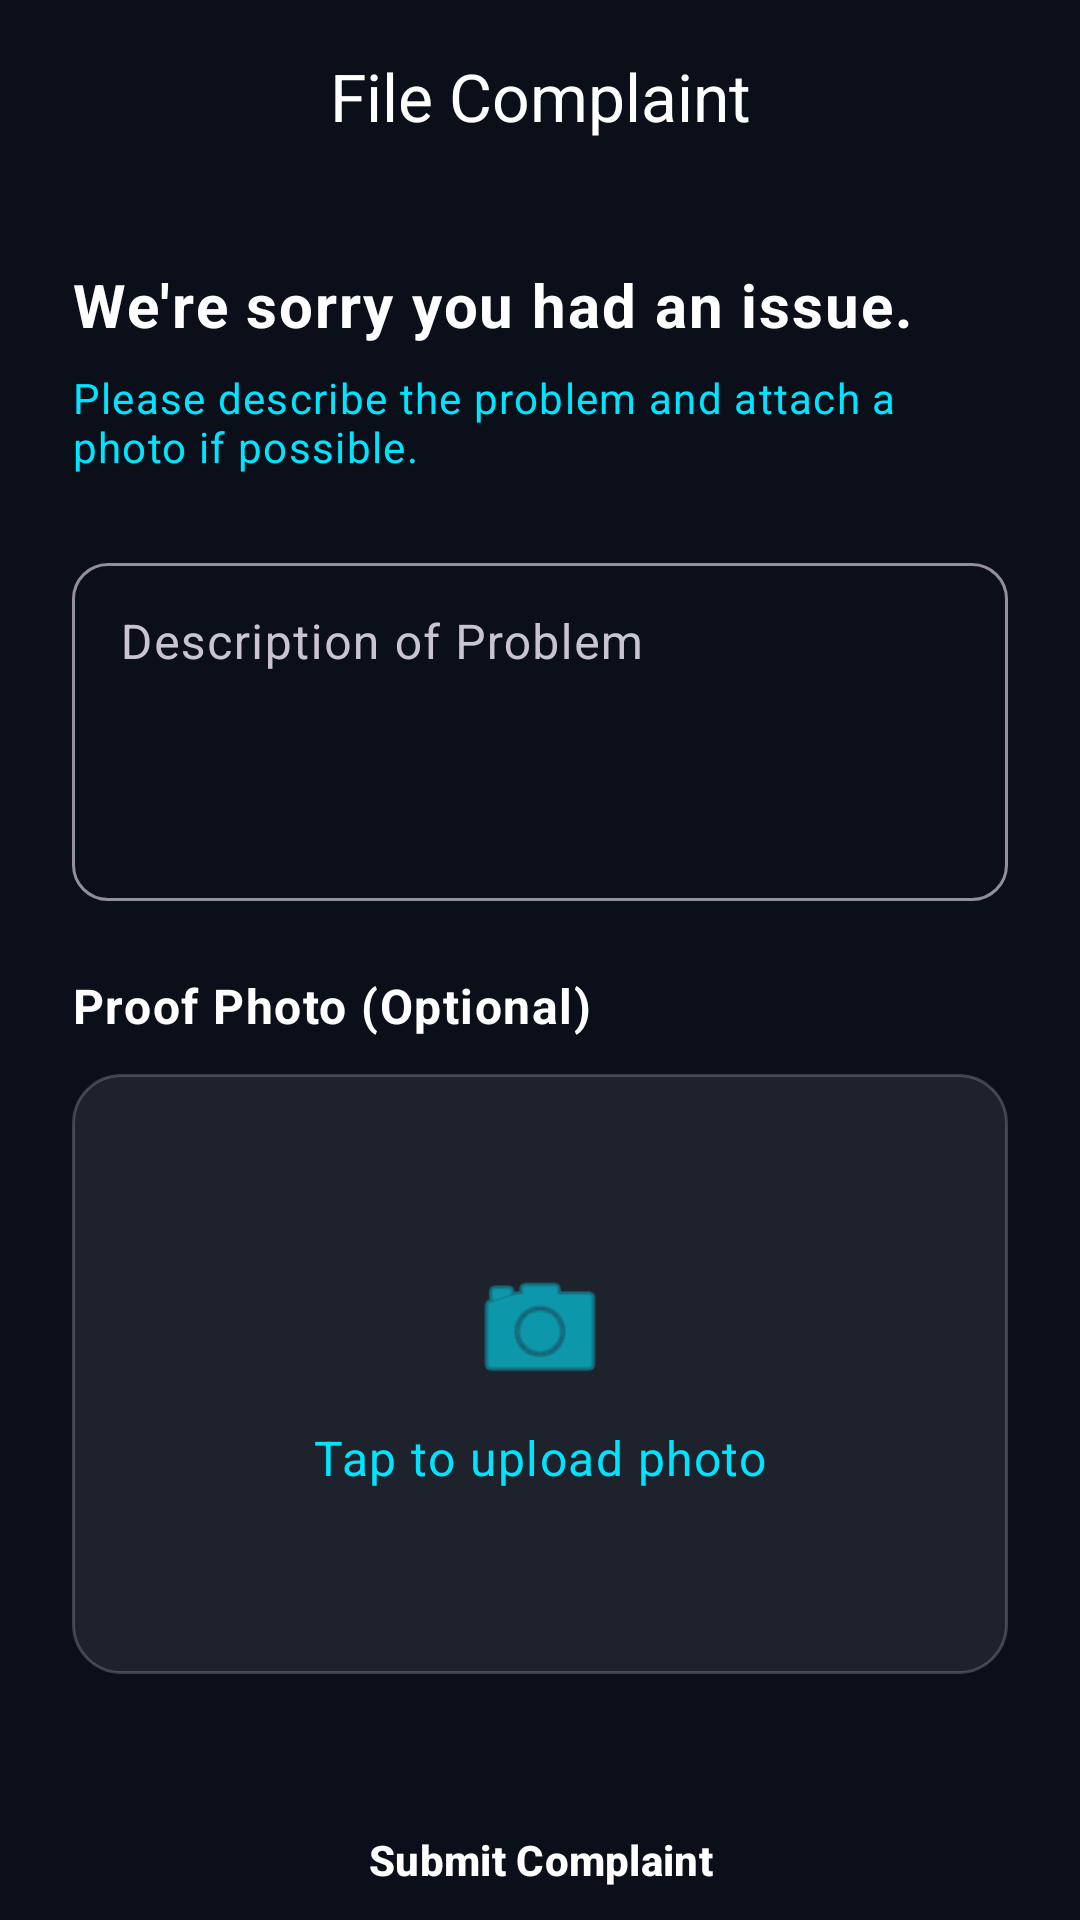

Icon bounding boxes for this 1080px x 1920px phone screenshot, format (x1, y1, x2, y2):
camera: (484, 1282, 596, 1371)
